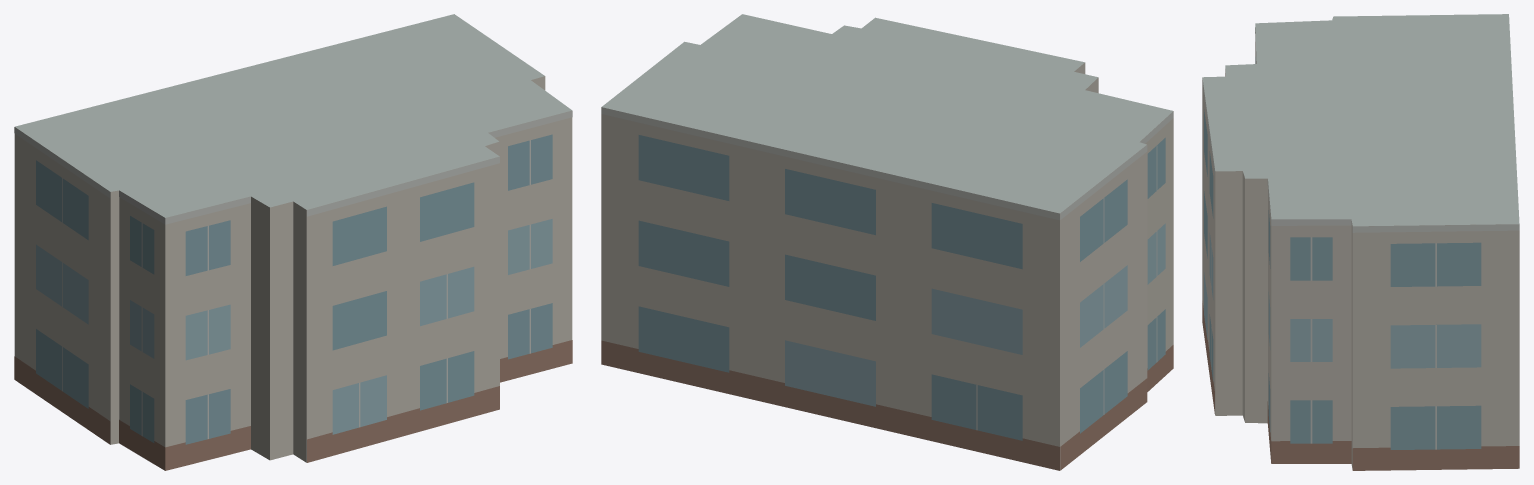
File: survey-upis-32645977.glb
The picture shows the model from 3 angles, left to right: view 1: azimuth 30°, elevation 25°; view 2: azimuth 150°, elevation 25°; view 3: azimuth 270°, elevation 25°; orthographic projection. The views are drawn at different scales.
Parts seen in each view (by area): view 1: survey-upis-32645977.tmp; view 2: survey-upis-32645977.tmp; view 3: survey-upis-32645977.tmp.
Part boxes in pixels (x1=…): survey-upis-32645977.tmp: x1=14, y1=14, x2=572, y2=470; survey-upis-32645977.tmp: x1=601, y1=14, x2=1173, y2=470; survey-upis-32645977.tmp: x1=1202, y1=14, x2=1519, y2=470.
Bounding box in the file's own units: 17.05 × 9.15 × 10.76.
